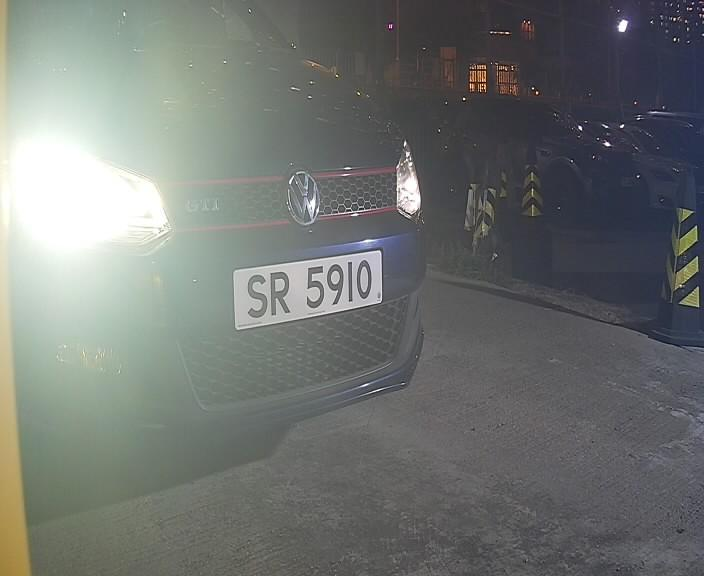privatecar: (10, 1, 456, 466)
